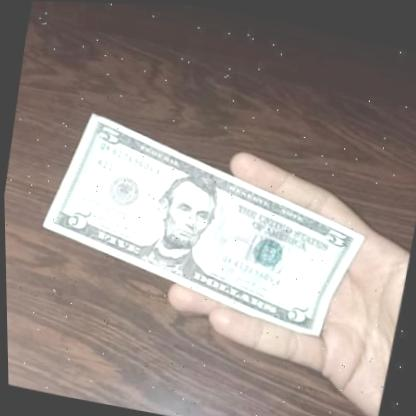five-front: (34, 102, 382, 337)
